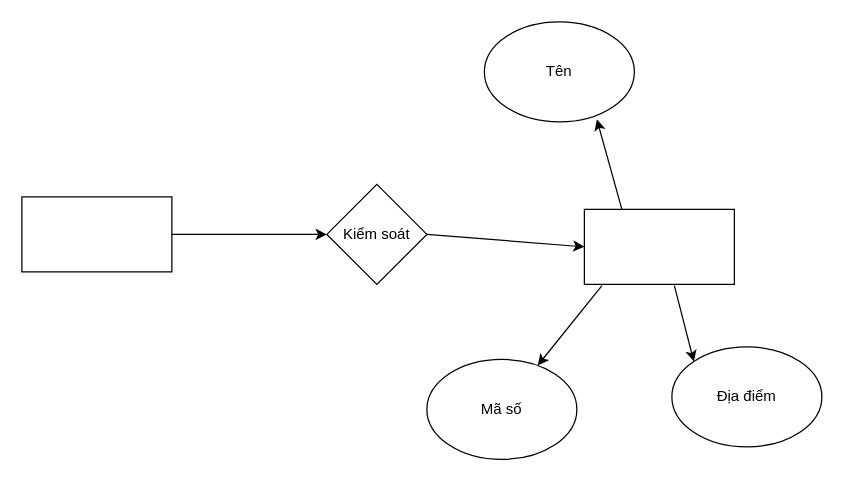
The diagram is 844 pixels wide and 481 high, and some of its shapes have lost their labels. The centre of each missing label's shape, as x and y in pixels:
Dự án: point (658, 246)
Đơn vị: point (96, 234)
